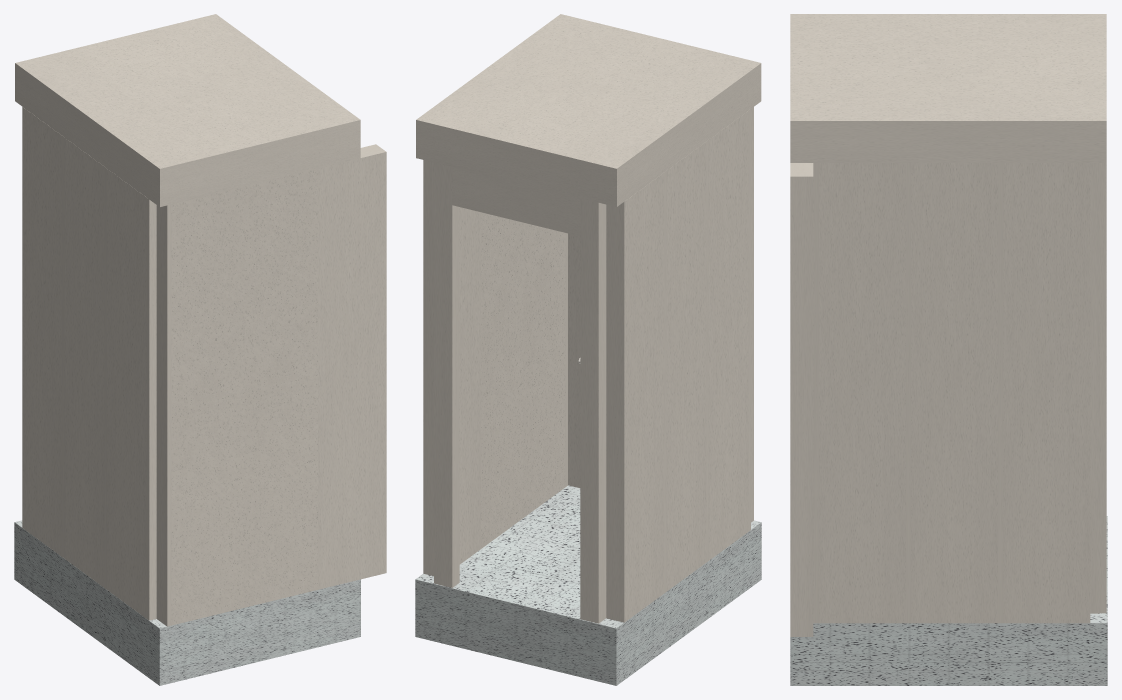
The model's file is elevator.glb.
3 views of the same model, side by side, from view 1: azimuth 30°, elevation 25°; view 2: azimuth 150°, elevation 25°; view 3: azimuth 270°, elevation 25° (orthographic). The views are drawn at different scales.
Visible parts, largest first — view 1: Layer:3 ele_main, Layer:3 ele_floor; view 2: Layer:3 ele_main, Layer:3 ele_floor; view 3: Layer:3 ele_main, Layer:3 ele_floor.
Boxes of the visible parts, x1,y1,x2,y2 form: Layer:3 ele_main: (15,14,386,626); Layer:3 ele_floor: (14,520,360,685); Layer:3 ele_main: (416,14,761,623); Layer:3 ele_floor: (415,485,761,685); Layer:3 ele_main: (790,14,1106,636); Layer:3 ele_floor: (790,516,1107,685).
Bounding box in the file's own units: 1.24 × 2.7 × 1.37.
Materials: 5 (5 with a texture image).
